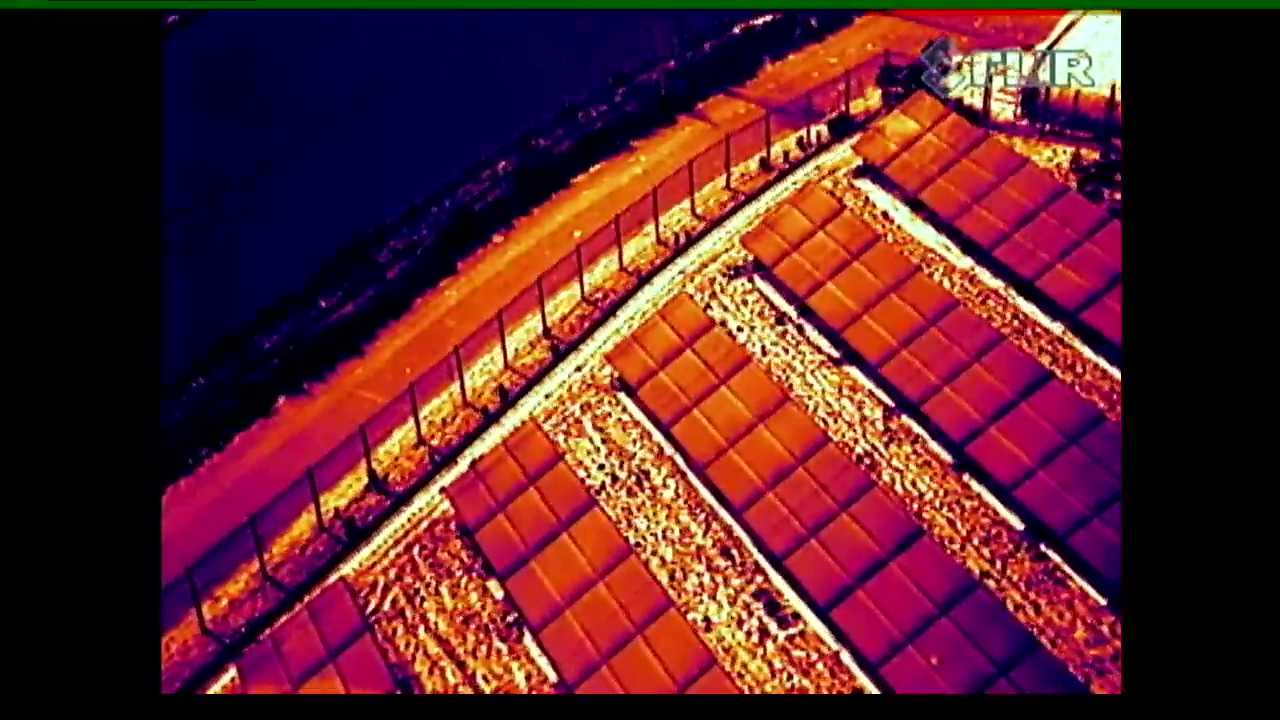hotspot: (865, 589, 1032, 692)
